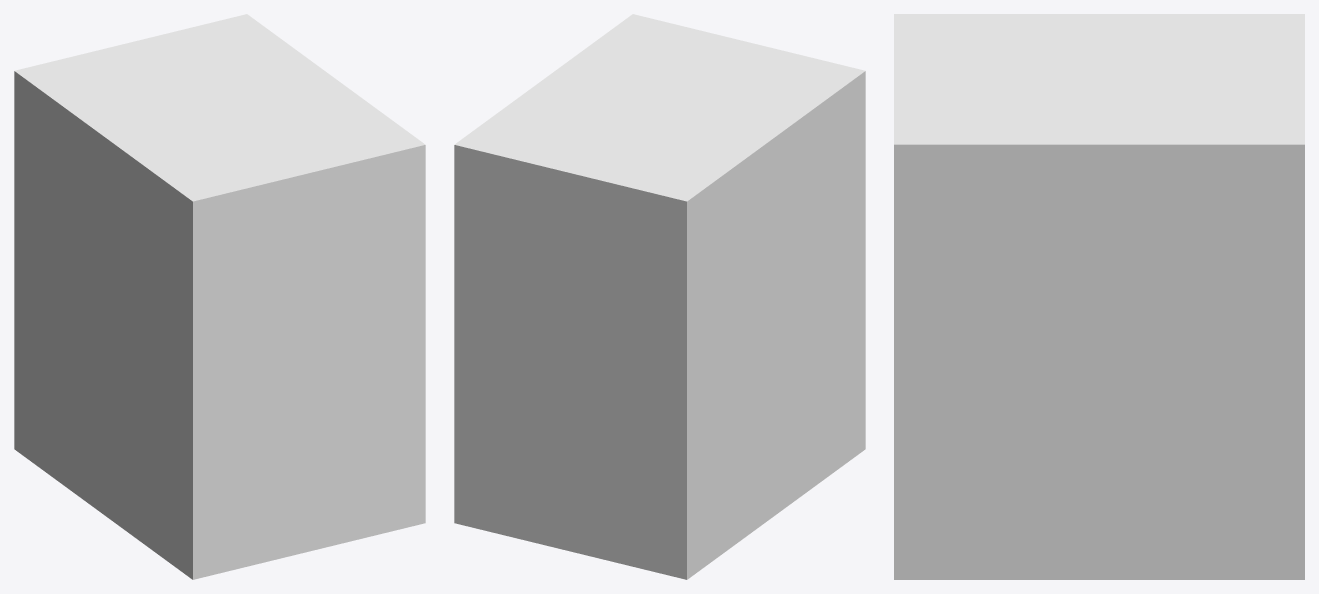
File: escenarioLF.glb
3 renders of one model, left to right at view 1: azimuth 30°, elevation 25°; view 2: azimuth 150°, elevation 25°; view 3: azimuth 270°, elevation 25°, orthographic. The views are drawn at different scales.
Parts seen in each view (by area): view 1: Mist1; view 2: Mist1; view 3: Mist1.
Part boxes in pixels (x1,y1,x2,y2): Mist1: (14,14,425,579); Mist1: (454,14,865,579); Mist1: (894,14,1304,579).
Size of the model in its own units: 223 by 347 by 297.
65 materials, 58 textured.
